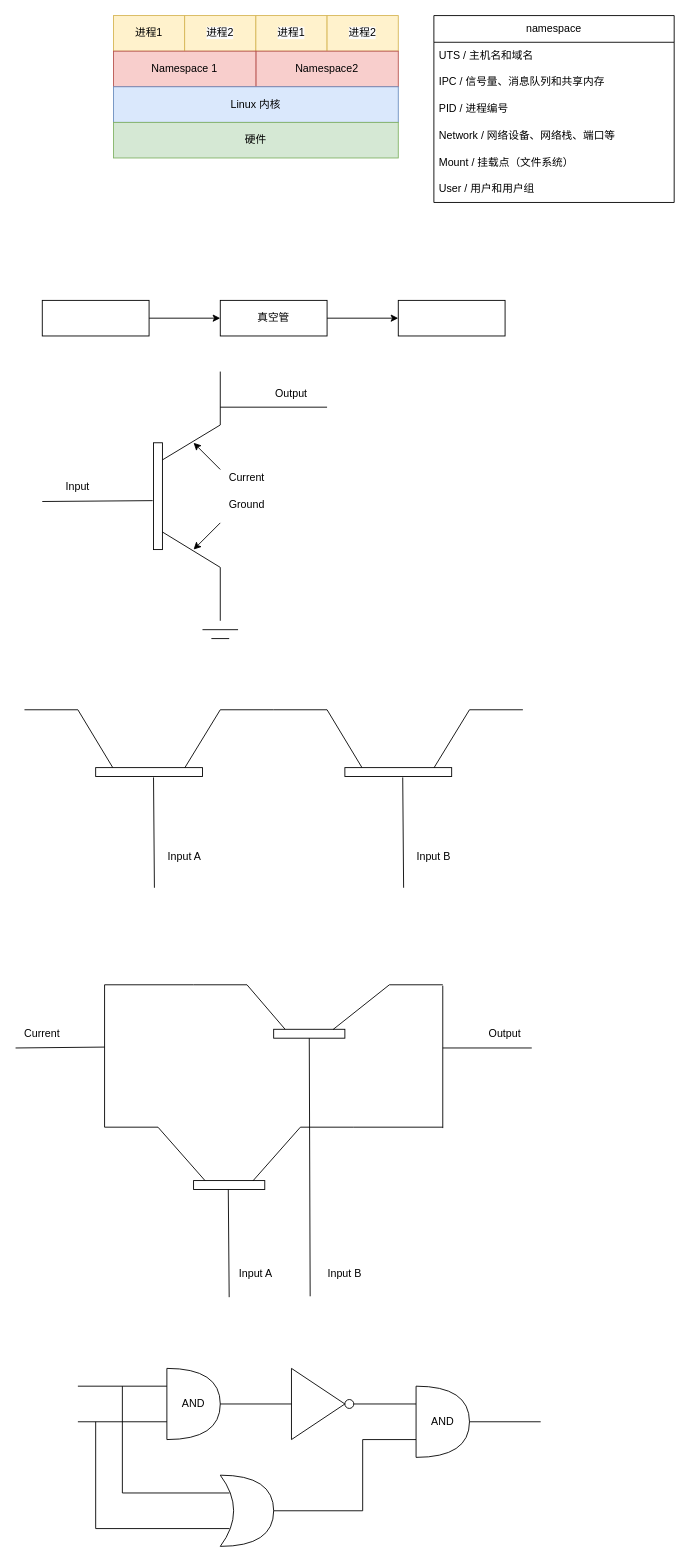
The diagram is 690 pixels wide and 1562 high, and some of its shapes have lost their labels. Here are the shapes that lost their labels. From the top down, the centre of each, then its label:
At point 95,317: "继电器".
At point 451,317: "晶体管".
At point 318,1403: "NOT".
At point 246,1510: "OR".
